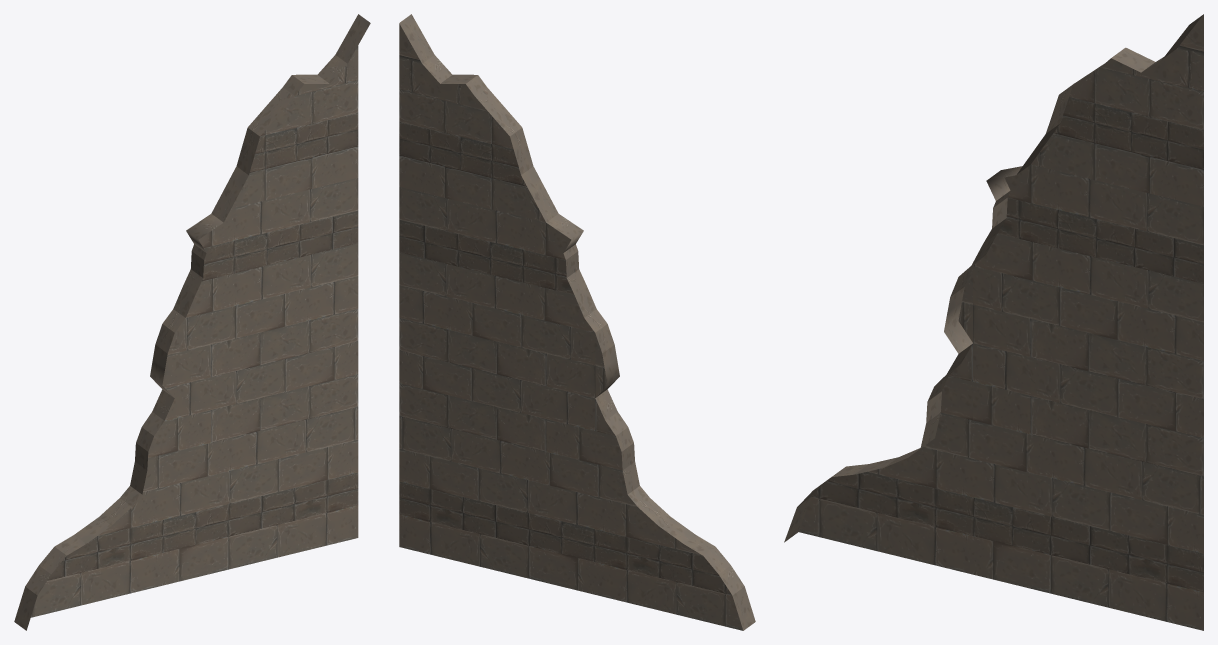
The model's file is Ruins_BaseWall_Broken_05a.fbx.
3 renders of one model, left to right at view 1: azimuth 30°, elevation 25°; view 2: azimuth 150°, elevation 25°; view 3: azimuth 330°, elevation 25°, orthographic. The views are drawn at different scales.
Visible parts, largest first — view 1: Ruins_BaseWall_Broken_05a; view 2: Ruins_BaseWall_Broken_05a; view 3: Ruins_BaseWall_Broken_05a.
Boxes of the visible parts, x1,y1,x2,y2 form: Ruins_BaseWall_Broken_05a: (14, 14, 370, 630); Ruins_BaseWall_Broken_05a: (399, 14, 755, 630); Ruins_BaseWall_Broken_05a: (784, 14, 1203, 630).
Size of the model in its own units: 8 by 11.64 by 0.5.
1 material, 1 textured.
